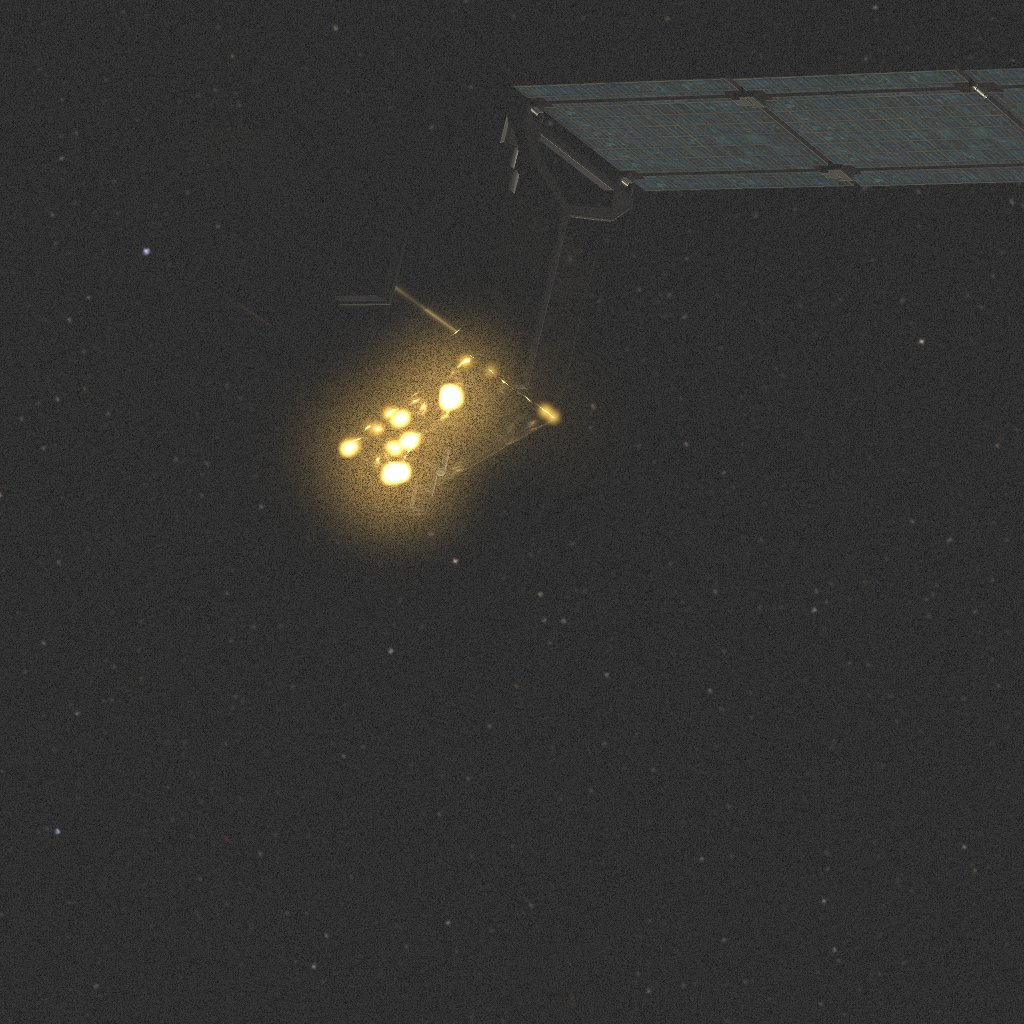earth_observation_sat_1: (178, 61, 1024, 525)
